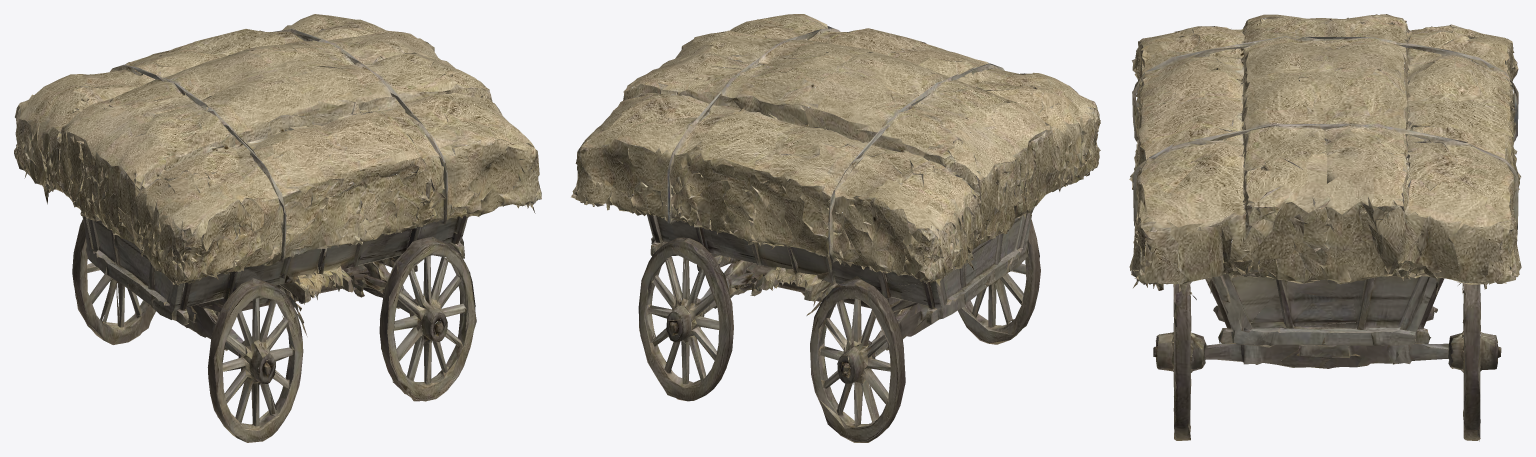
The model's file is hay-cart.glb.
The picture shows the model from 3 angles, left to right: view 1: azimuth 30°, elevation 25°; view 2: azimuth 150°, elevation 25°; view 3: azimuth 270°, elevation 25°; orthographic projection. The views are drawn at different scales.
Visible parts, largest first — view 1: hay-cart; view 2: hay-cart; view 3: hay-cart.
Boxes of the visible parts, <box> form: hay-cart: <box>14,14,541,442</box>; hay-cart: <box>571,14,1100,442</box>; hay-cart: <box>1129,14,1521,441</box>.
Bounding box in the file's own units: 2.8 × 2.2 × 2.4.
1 material, 1 textured.
